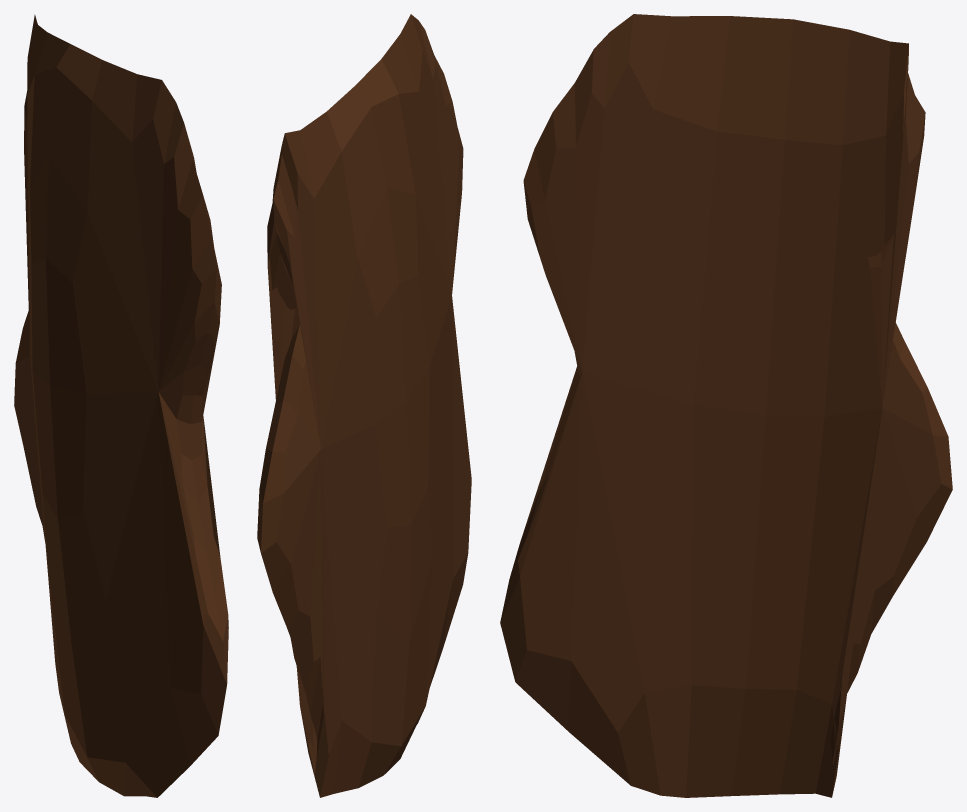
Rendered from woodParticle.fbx.
3 renders of one model, left to right at view 1: azimuth 30°, elevation 25°; view 2: azimuth 150°, elevation 25°; view 3: azimuth 270°, elevation 25°, orthographic. The views are drawn at different scales.
Parts seen in each view (by area): view 1: Plane; view 2: Plane; view 3: Plane.
Part boxes in pixels (x1,y1,x2,y2): Plane: [14, 14, 228, 797]; Plane: [257, 14, 471, 797]; Plane: [500, 14, 952, 797].
Bounding box in the file's own units: 19.51 × 188 × 97.34.
